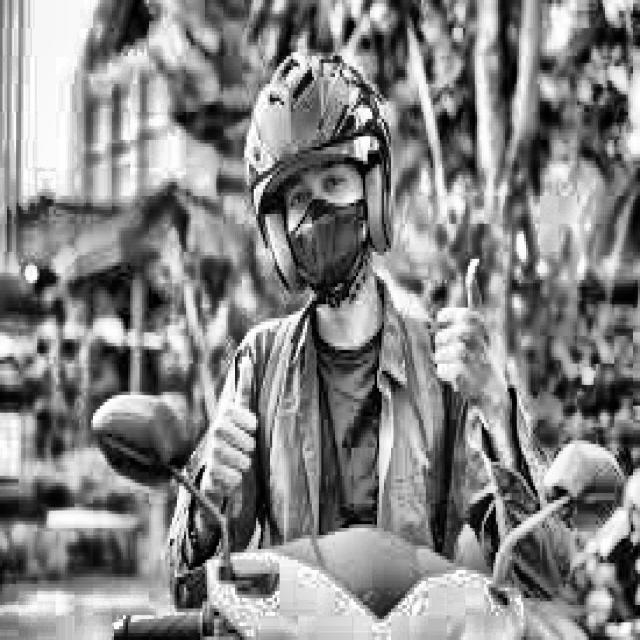Helmet: (244, 41, 406, 318)
